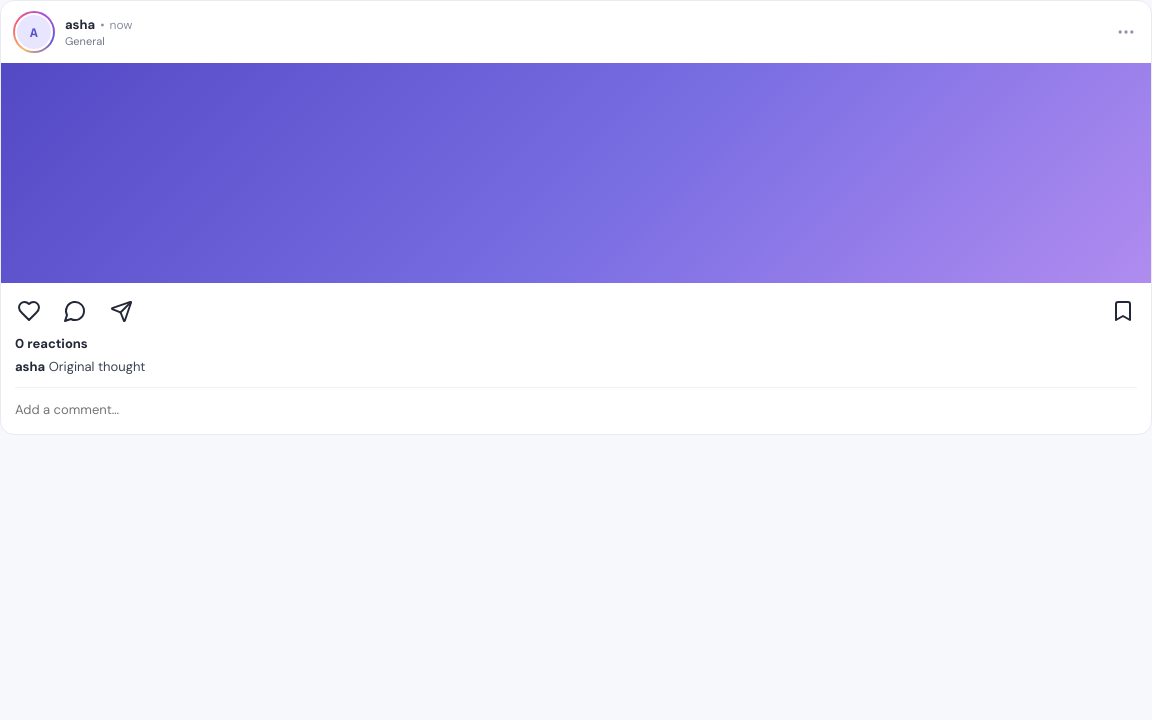
reposts, sponsored posts and sharing › reposts and sends to a chat from the share sheet
Click the button named "Share": (121, 311) x1=101 y1=291 x2=141 y2=331
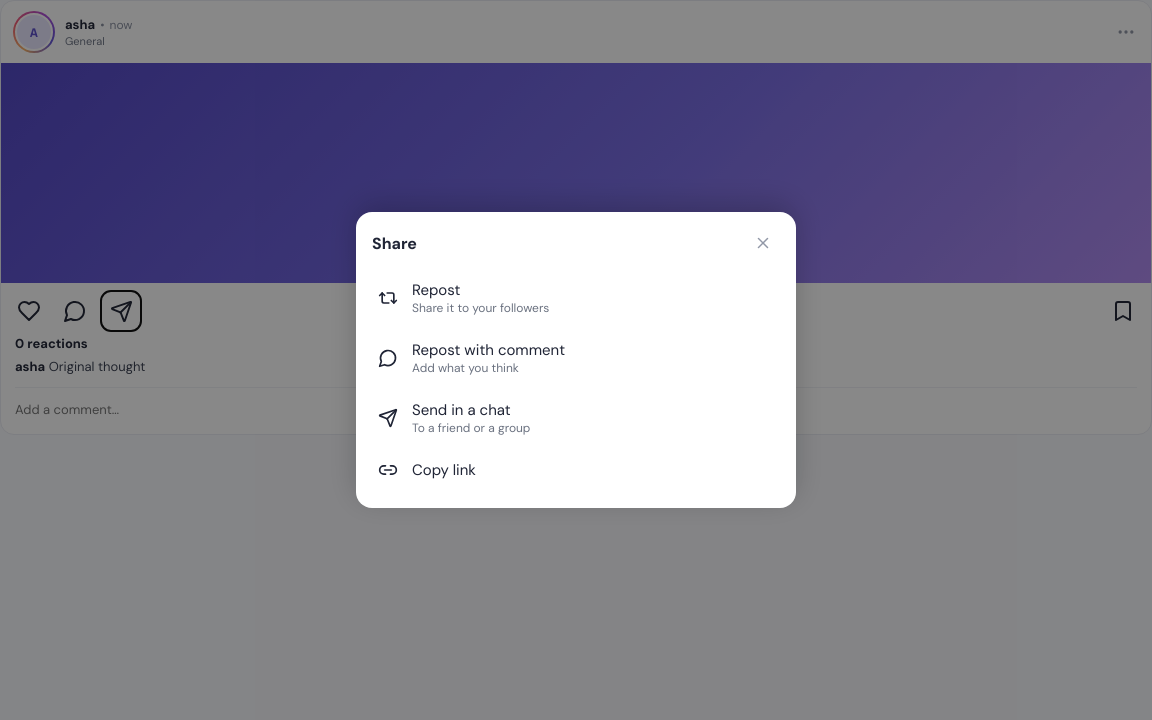
Click the button "Send in a chat To a friend or a group": (461, 410) x1=372 y1=388 x2=780 y2=448
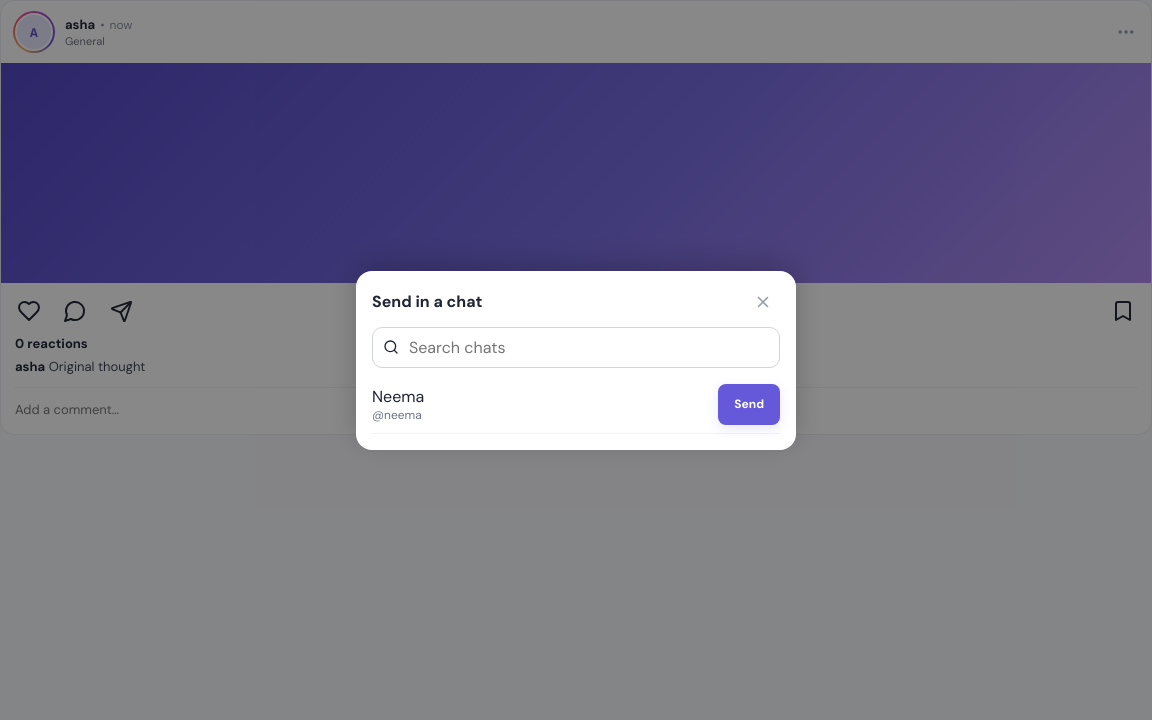
Click the button "Send": (749, 404) x1=718 y1=384 x2=780 y2=424
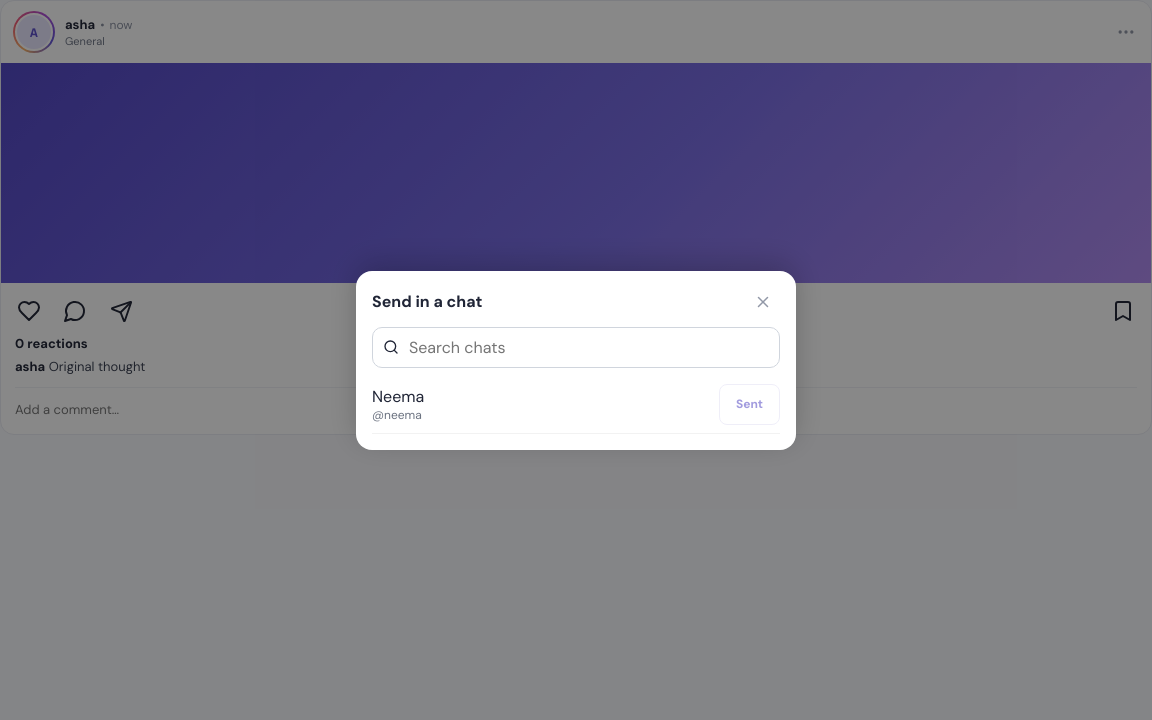
Check: the button "Sent" is disabled, box x1=719 y1=384 x2=780 y2=424
